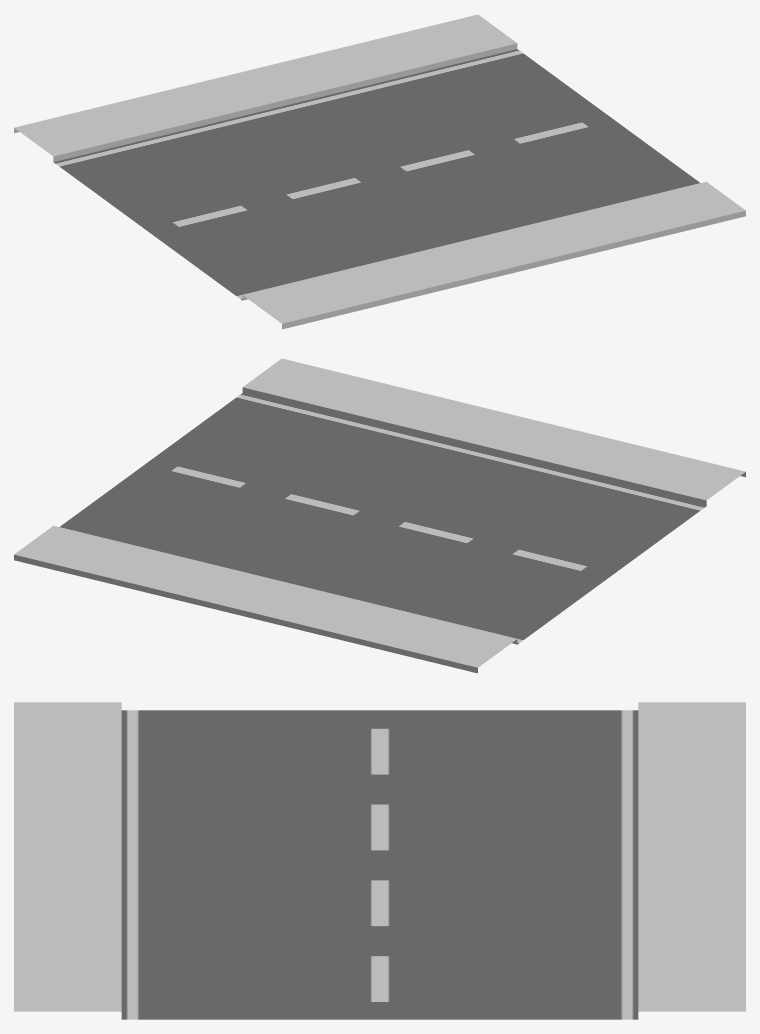
Rendered from RoadTile.fbx.
The picture shows the model from 3 angles, top to bottom: view 1: azimuth 30°, elevation 25°; view 2: azimuth 150°, elevation 25°; view 3: azimuth 270°, elevation 25°; orthographic projection. The views are drawn at different scales.
Visible parts, largest first — view 1: RoadTile; view 2: RoadTile; view 3: RoadTile.
Boxes of the visible parts, <box> form: RoadTile: <box>14,14,745,329</box>; RoadTile: <box>14,358,745,673</box>; RoadTile: <box>14,702,745,1019</box>.
Size of the model in its own units: 1700 by 20 by 1700.
